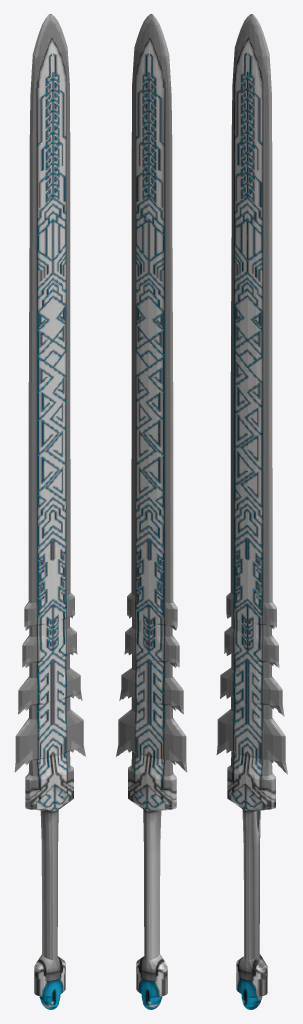
The model's file is kazio.obj.
The picture shows the model from 3 angles, left to right: view 1: azimuth 30°, elevation 25°; view 2: azimuth 150°, elevation 25°; view 3: azimuth 330°, elevation 25°; orthographic projection.
Visible parts, largest first — view 1: Cube; view 2: Cube; view 3: Cube.
Boxes of the visible parts, box(x1,y1,x2,y2) form: Cube: box(14, 14, 85, 1009); Cube: box(116, 14, 187, 1009); Cube: box(216, 14, 287, 1009).
Size of the model in its own units: 0.7156 by 9.39 by 0.1898.
